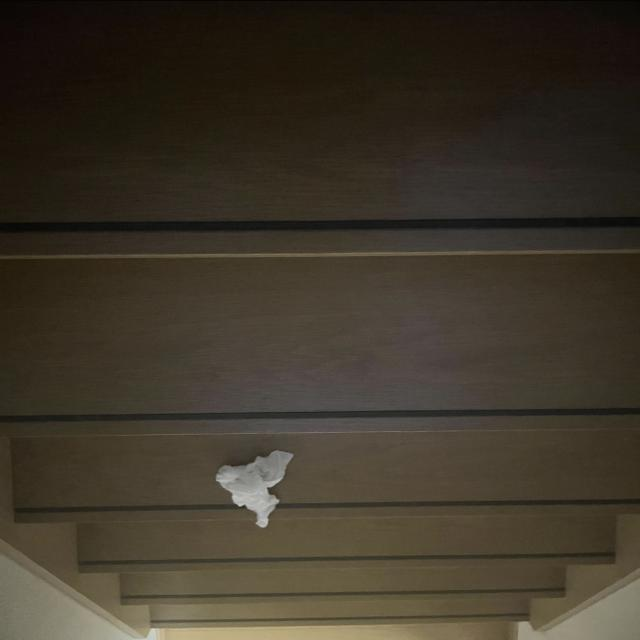Paper: (211, 443, 297, 534)
